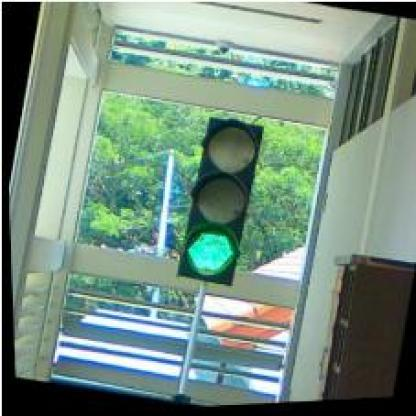green: (166, 112, 266, 290)
